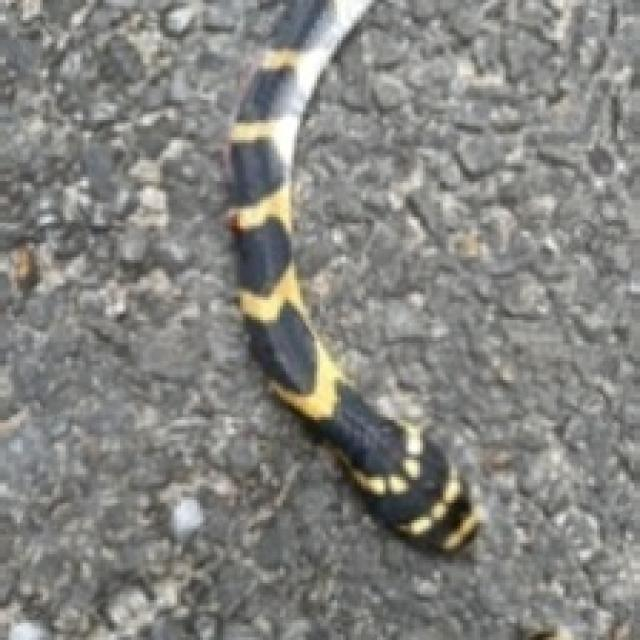king cobra: (229, 0, 477, 551)
